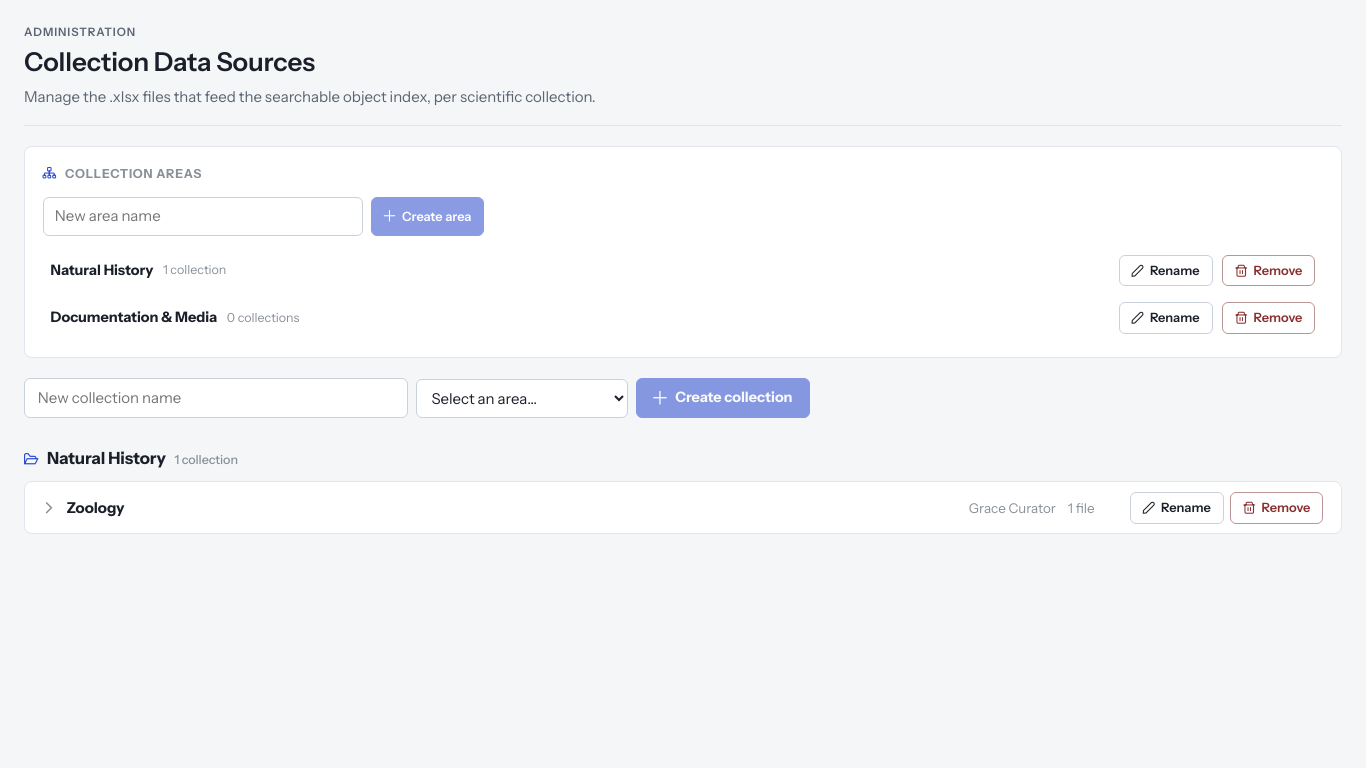
it: CollectionDataSourcesPageComponent › SYS_ADMIN catalog administration › asks for confirmation before removing an area, surfacing an in-use conflict
What coordinates should you click on to do the following:
click the 1st button with class "admin-btn--danger"
I would click on:
 (1269, 271)
Its box is [1222, 255, 1315, 286].
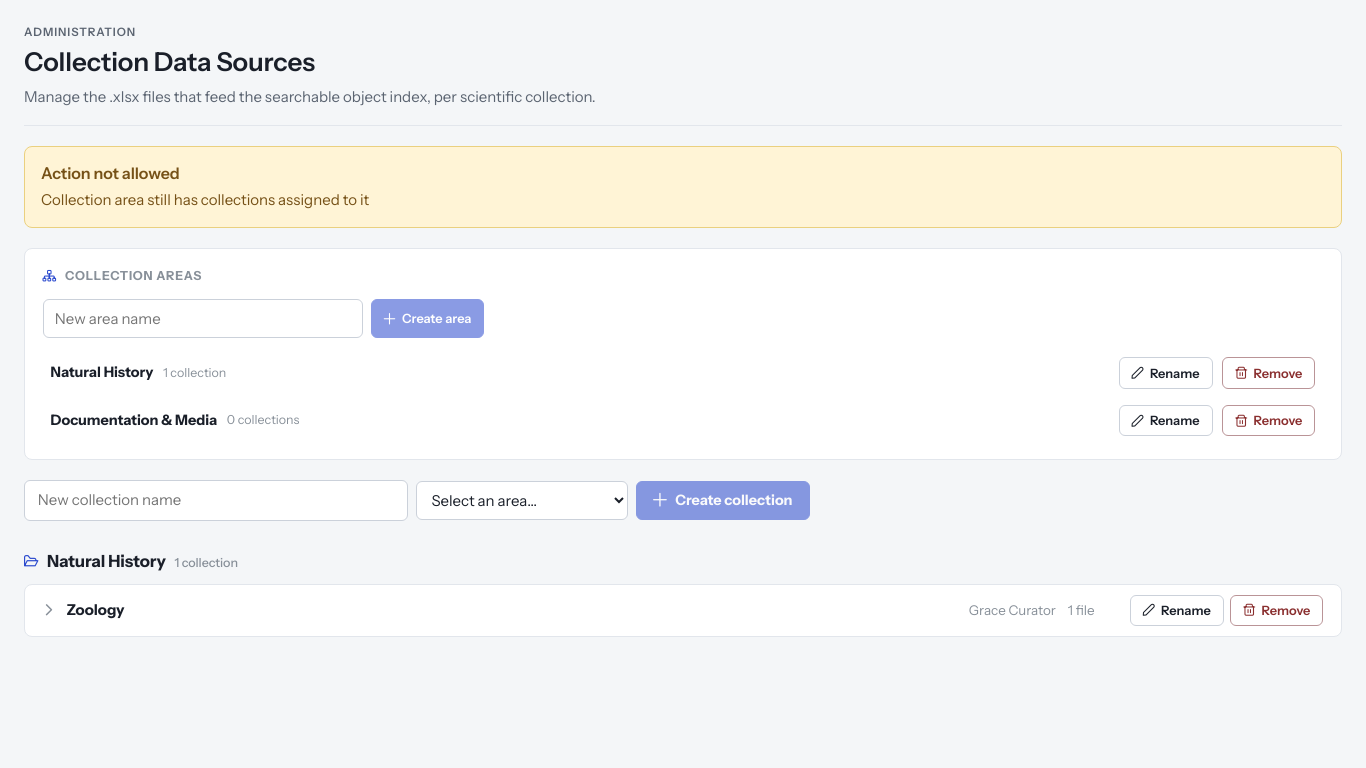
Expected: the text "Action not allowed" is shown, [41, 163, 180, 183]
